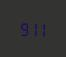nine: (18, 19, 26, 36)
one: (28, 19, 36, 37), (37, 20, 45, 37)
